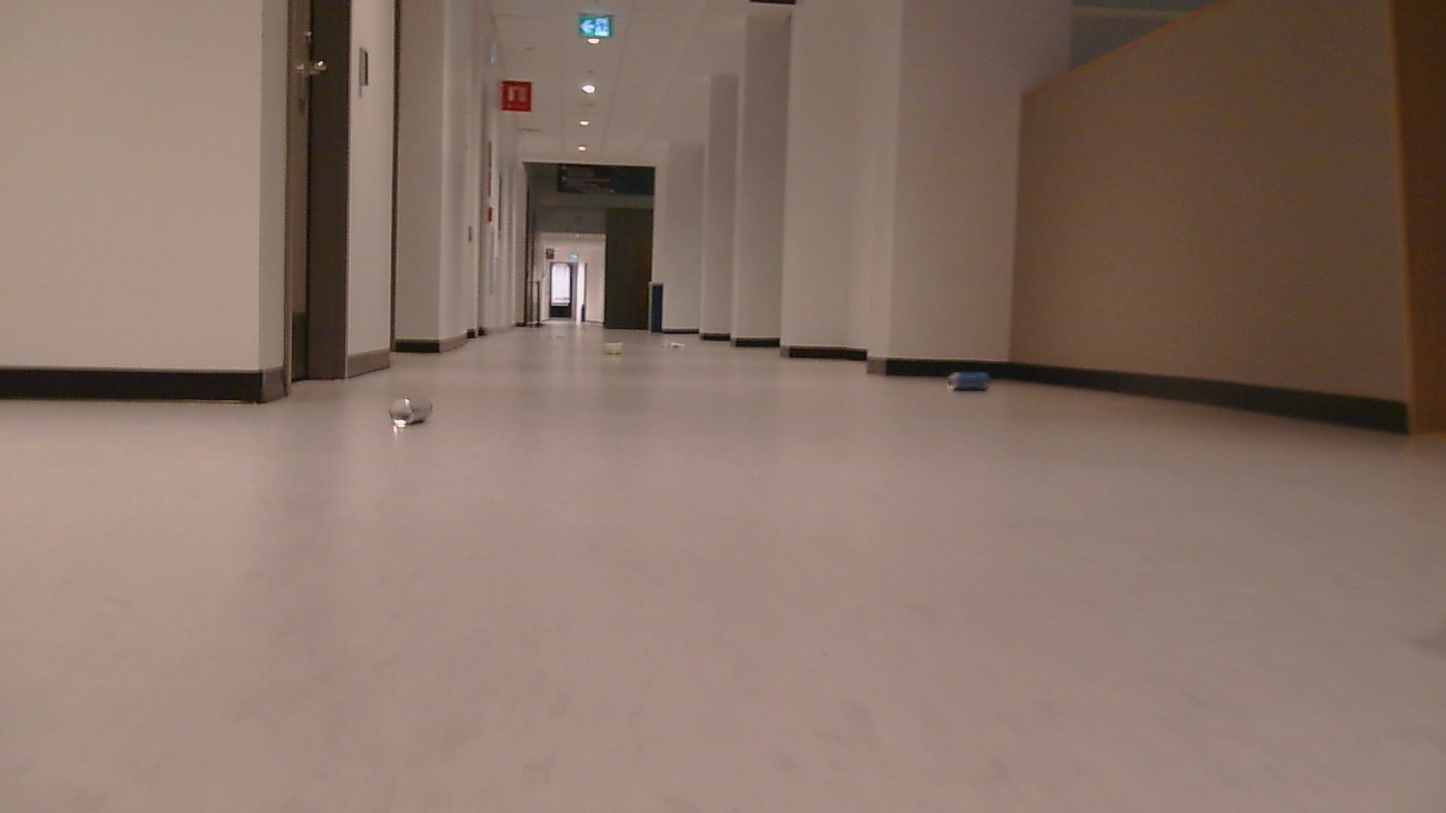carton: (366, 382, 440, 438), (938, 361, 996, 404), (598, 331, 629, 362), (666, 333, 696, 348)
